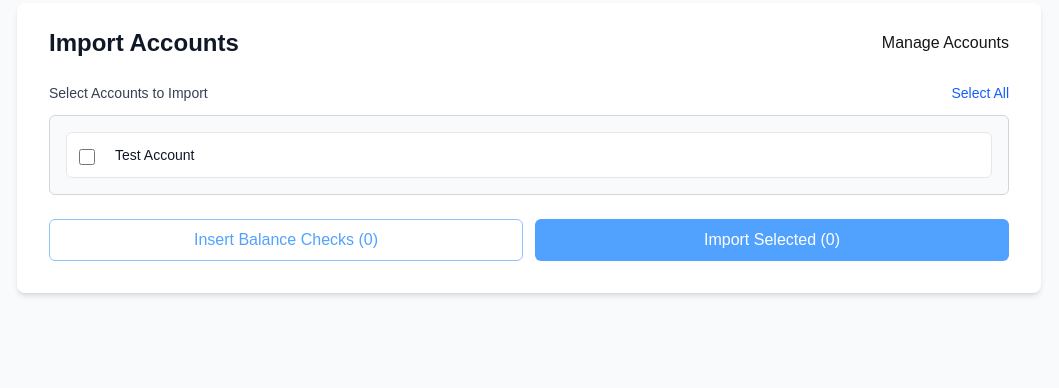
Scenario: ImportUI - Error Handling › should insert balance checks for selected accounts
Step 1. Click the checkbox → [87, 157], box [79,149,95,165]
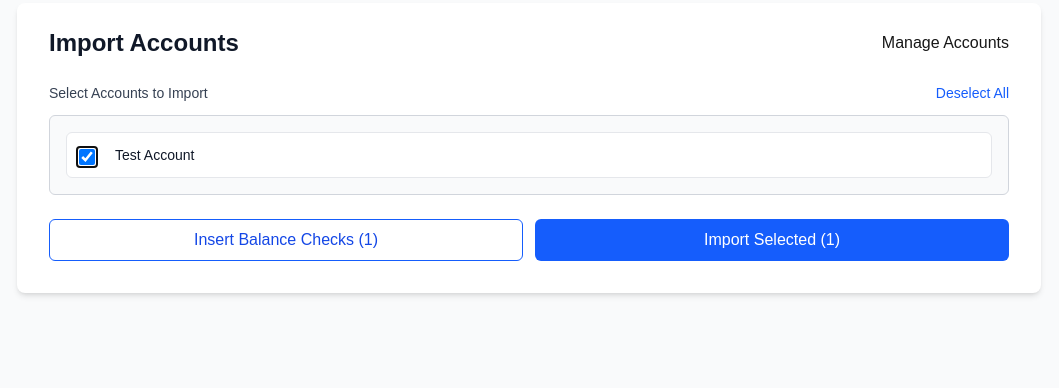
Step 2. Click the button "Insert Balance Checks (1)" → [286, 240], box [49,219,523,261]
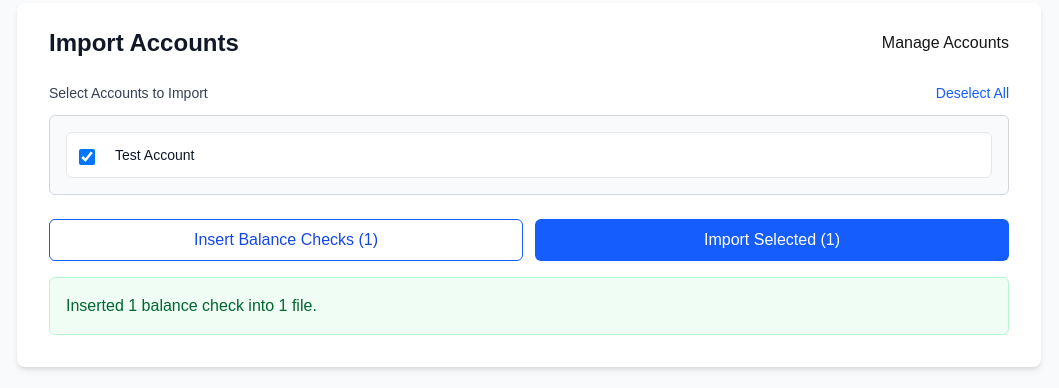
Check: the text "Inserted 1 balance check into 1 file." is shown, box [49,277,1009,335]
